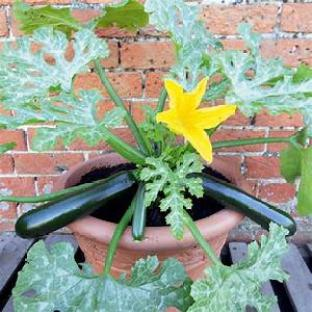Zucchini: (16, 172, 136, 238), (192, 174, 296, 235), (133, 183, 146, 241)
